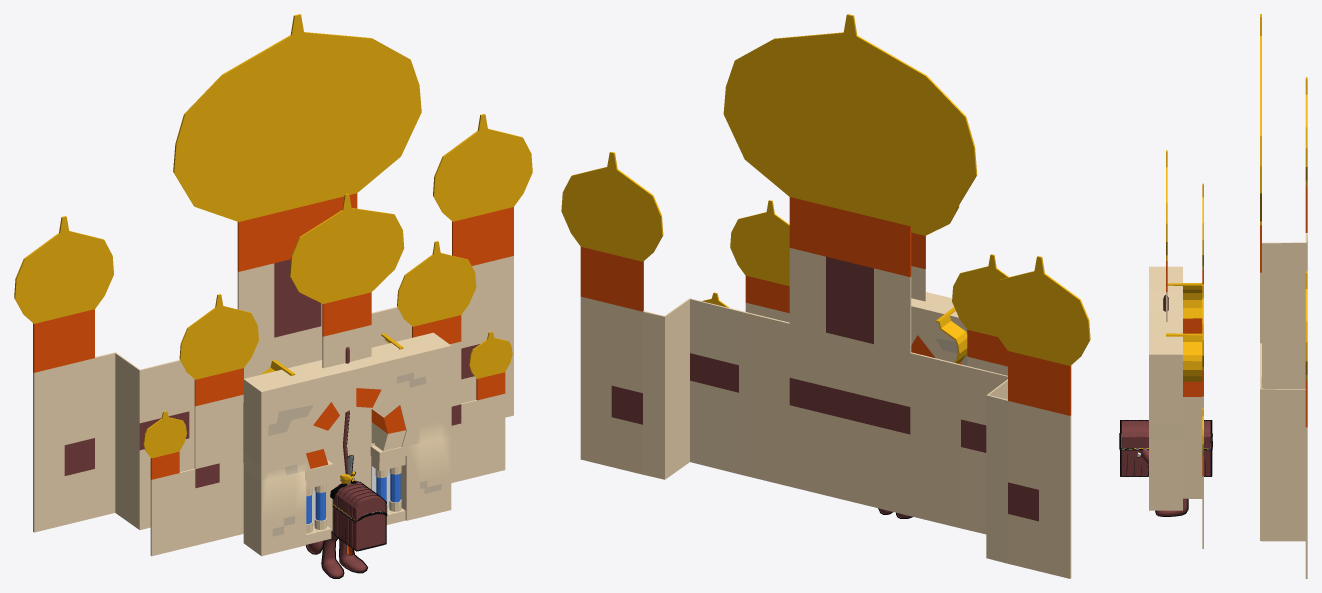
File: Objetos Parte 3.fbx
3 views of the same model, side by side, from view 1: azimuth 30°, elevation 25°; view 2: azimuth 150°, elevation 25°; view 3: azimuth 270°, elevation 25° (orthographic). The views are drawn at different scales.
Visible parts, largest first — view 1: Castillo atras, Castillo, Pared, Columnas, Arco, Cofre, Mono; view 2: Castillo atras, Castillo, Pared; view 3: Castillo atras, Pared, Castillo, Cofre, Reborde Cofre, Mono.
Boxes of the visible parts, x1,y1,x2,y2 form: Castillo atras: (14, 14, 532, 532); Castillo: (143, 193, 512, 556); Pared: (243, 332, 451, 556); Columnas: (305, 443, 407, 544); Arco: (306, 388, 405, 468); Cofre: (331, 480, 385, 550); Mono: (306, 533, 366, 577); Castillo atras: (561, 14, 1090, 578); Castillo: (702, 200, 1008, 375); Pared: (911, 292, 967, 365); Castillo atras: (1260, 14, 1307, 578); Pared: (1149, 266, 1182, 510); Castillo: (1166, 150, 1203, 548); Cofre: (1121, 420, 1211, 476); Reborde Cofre: (1119, 420, 1212, 476); Mono: (1137, 449, 1187, 515).
Size of the model in its own units: 571 by 550 by 189.
